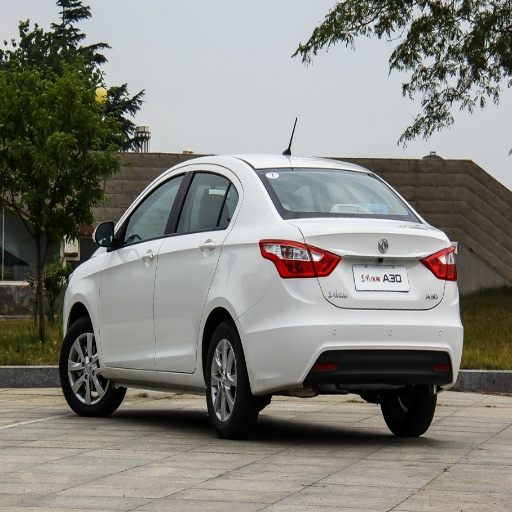back_bumper: (237, 278, 465, 393)
back_glass: (258, 170, 416, 219)
back_left_door: (154, 169, 236, 371)
tailgate: (291, 219, 443, 309)
